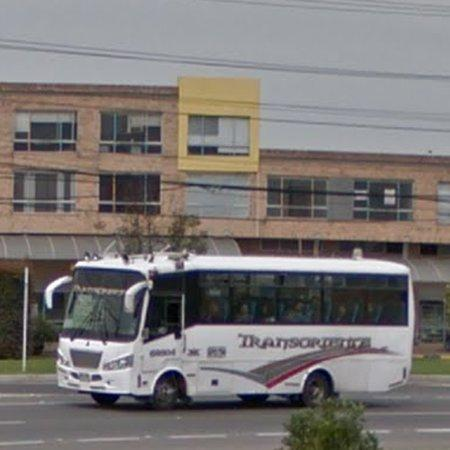buses: (45, 254, 415, 409)
